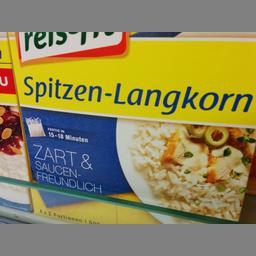rice: (6, 31, 255, 223)
